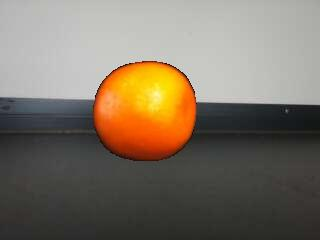Orange: (92, 61, 197, 161)
